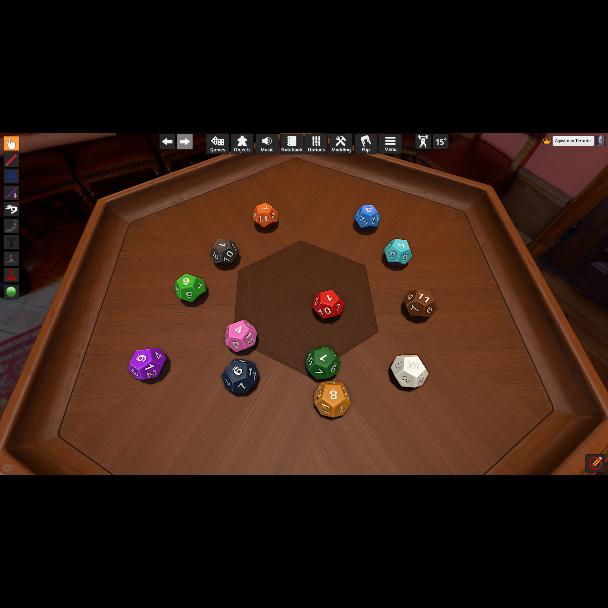d12: (313, 380, 350, 418), (222, 359, 258, 395), (129, 348, 167, 380), (392, 354, 428, 386), (307, 346, 339, 378), (226, 320, 256, 350), (176, 273, 206, 303), (404, 290, 434, 318), (314, 290, 344, 318), (384, 238, 411, 266), (209, 240, 236, 266), (354, 205, 380, 231), (253, 203, 277, 229)
